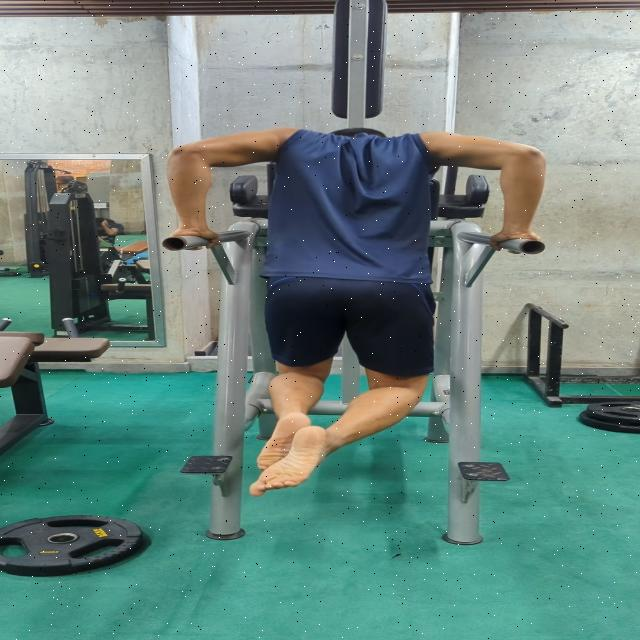Normal_Dips: (157, 110, 560, 498)
